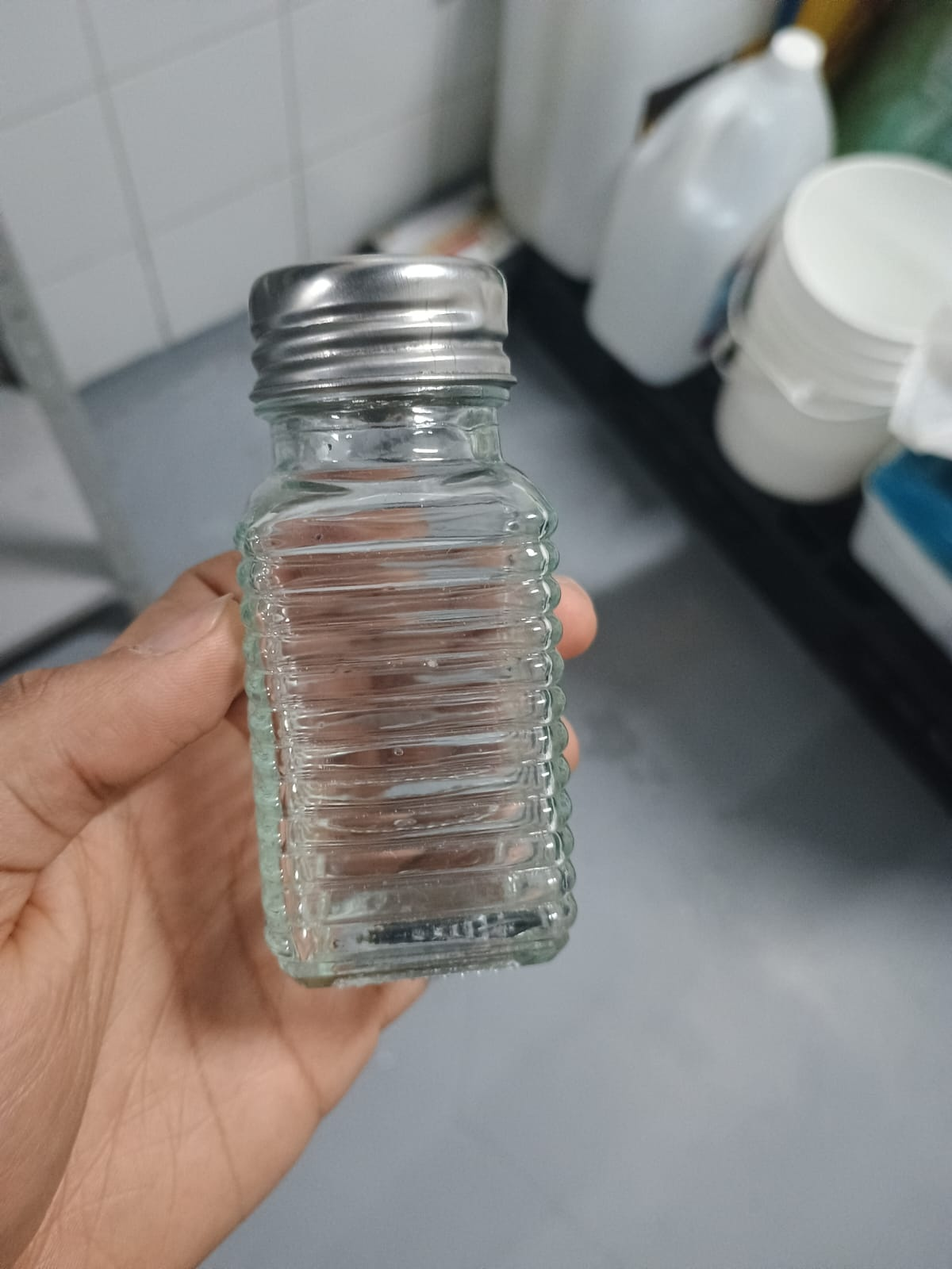Metal: (250, 253, 515, 381)
Vidrio: (235, 391, 579, 991)
